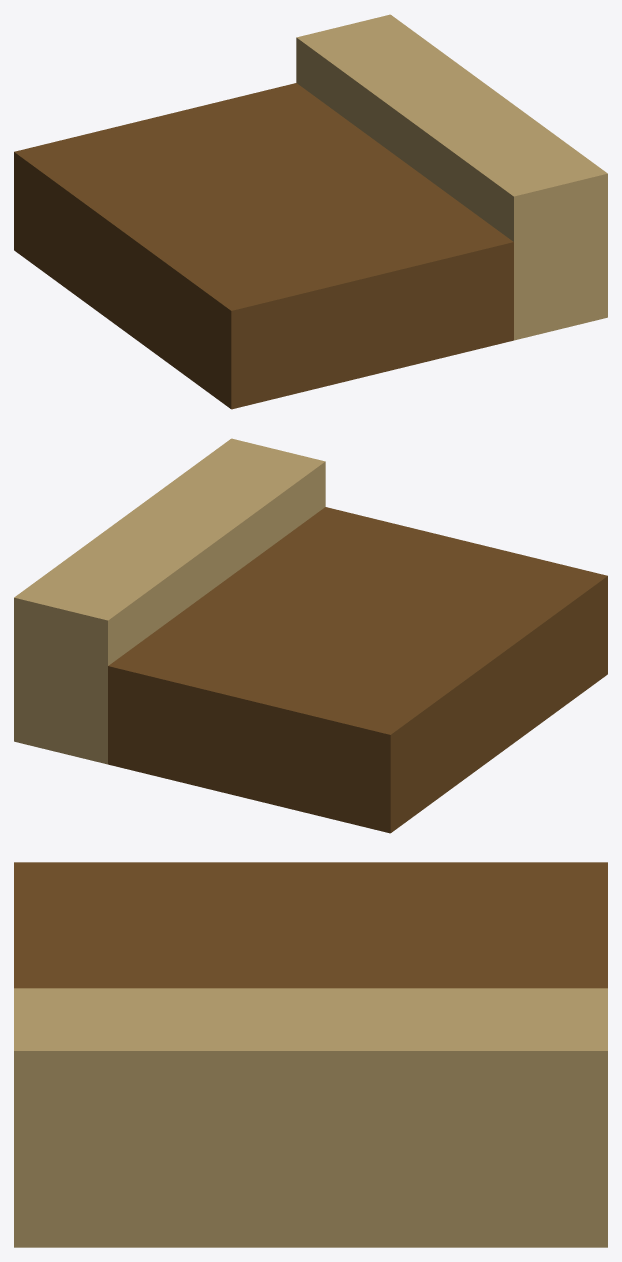
The model's file is planter-box_straight.fbx.
3 renders of one model, top to bottom at view 1: azimuth 30°, elevation 25°; view 2: azimuth 150°, elevation 25°; view 3: azimuth 270°, elevation 25°, orthographic. The views are drawn at different scales.
Visible parts, largest first — view 1: pCube4; view 2: pCube4; view 3: pCube4.
Part boxes in pixels (x1,y1,x2,y2): pCube4: [14, 14, 607, 409]; pCube4: [14, 438, 607, 833]; pCube4: [14, 862, 607, 1247].
Size of the model in its own units: 200 by 73.08 by 200.
